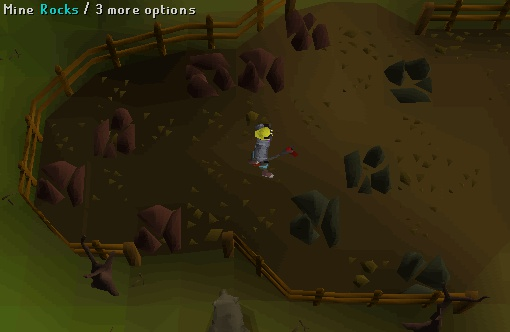coal: (319, 133, 416, 205), (267, 179, 364, 251), (366, 42, 463, 114)
iron: (119, 191, 197, 263), (23, 143, 101, 215), (76, 96, 154, 168), (164, 36, 242, 108)
